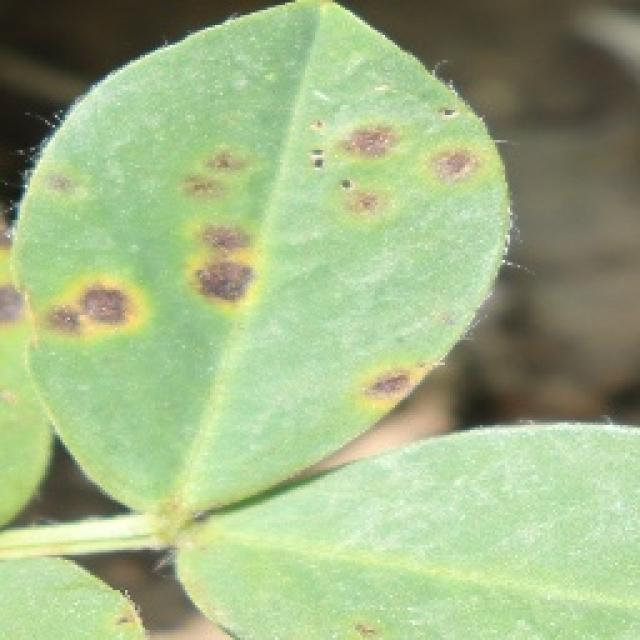Early_leaf_spot: (170, 123, 260, 321), (16, 261, 150, 372), (311, 104, 404, 242), (411, 85, 489, 204), (347, 342, 443, 414), (23, 156, 96, 222), (0, 229, 39, 336)
